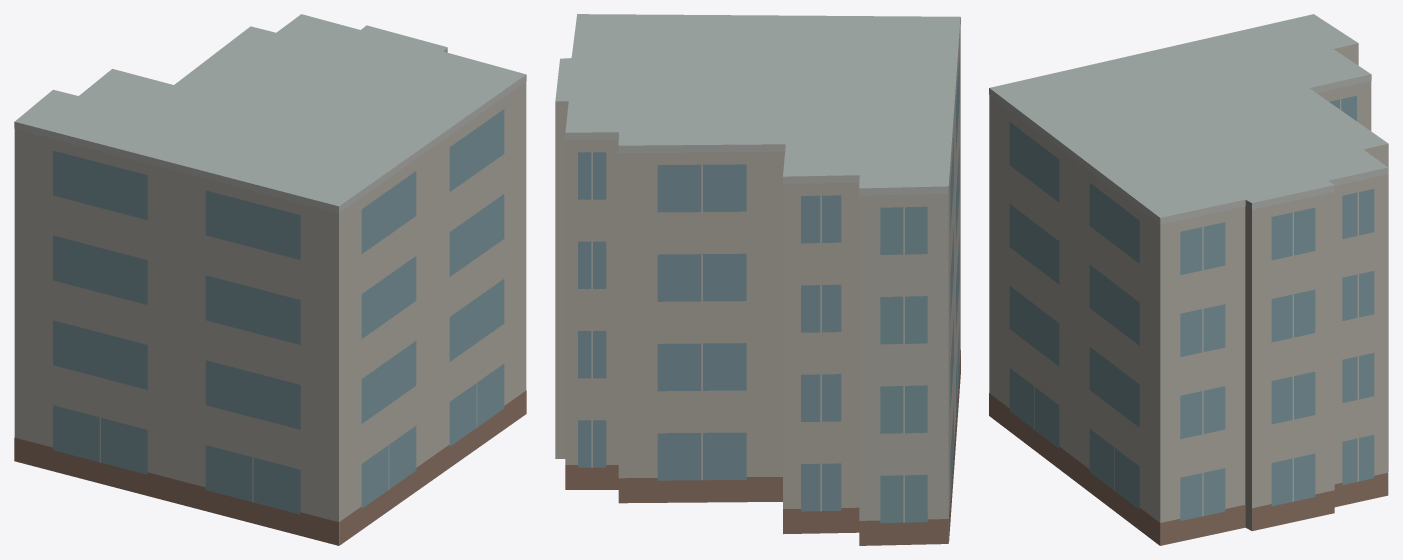
File: survey-upis-32823574.glb
3 views of the same model, side by side, from view 1: azimuth 30°, elevation 25°; view 2: azimuth 150°, elevation 25°; view 3: azimuth 270°, elevation 25° (orthographic). The views are drawn at different scales.
Parts seen in each view (by area): view 1: survey-upis-32823574.tmp; view 2: survey-upis-32823574.tmp; view 3: survey-upis-32823574.tmp.
Boxes of the visible parts, x1,y1,x2,y2 form: survey-upis-32823574.tmp: (14, 14, 526, 545); survey-upis-32823574.tmp: (555, 14, 960, 545); survey-upis-32823574.tmp: (989, 14, 1388, 545).
Size of the model in its own units: 15.82 by 11.86 by 13.1.
